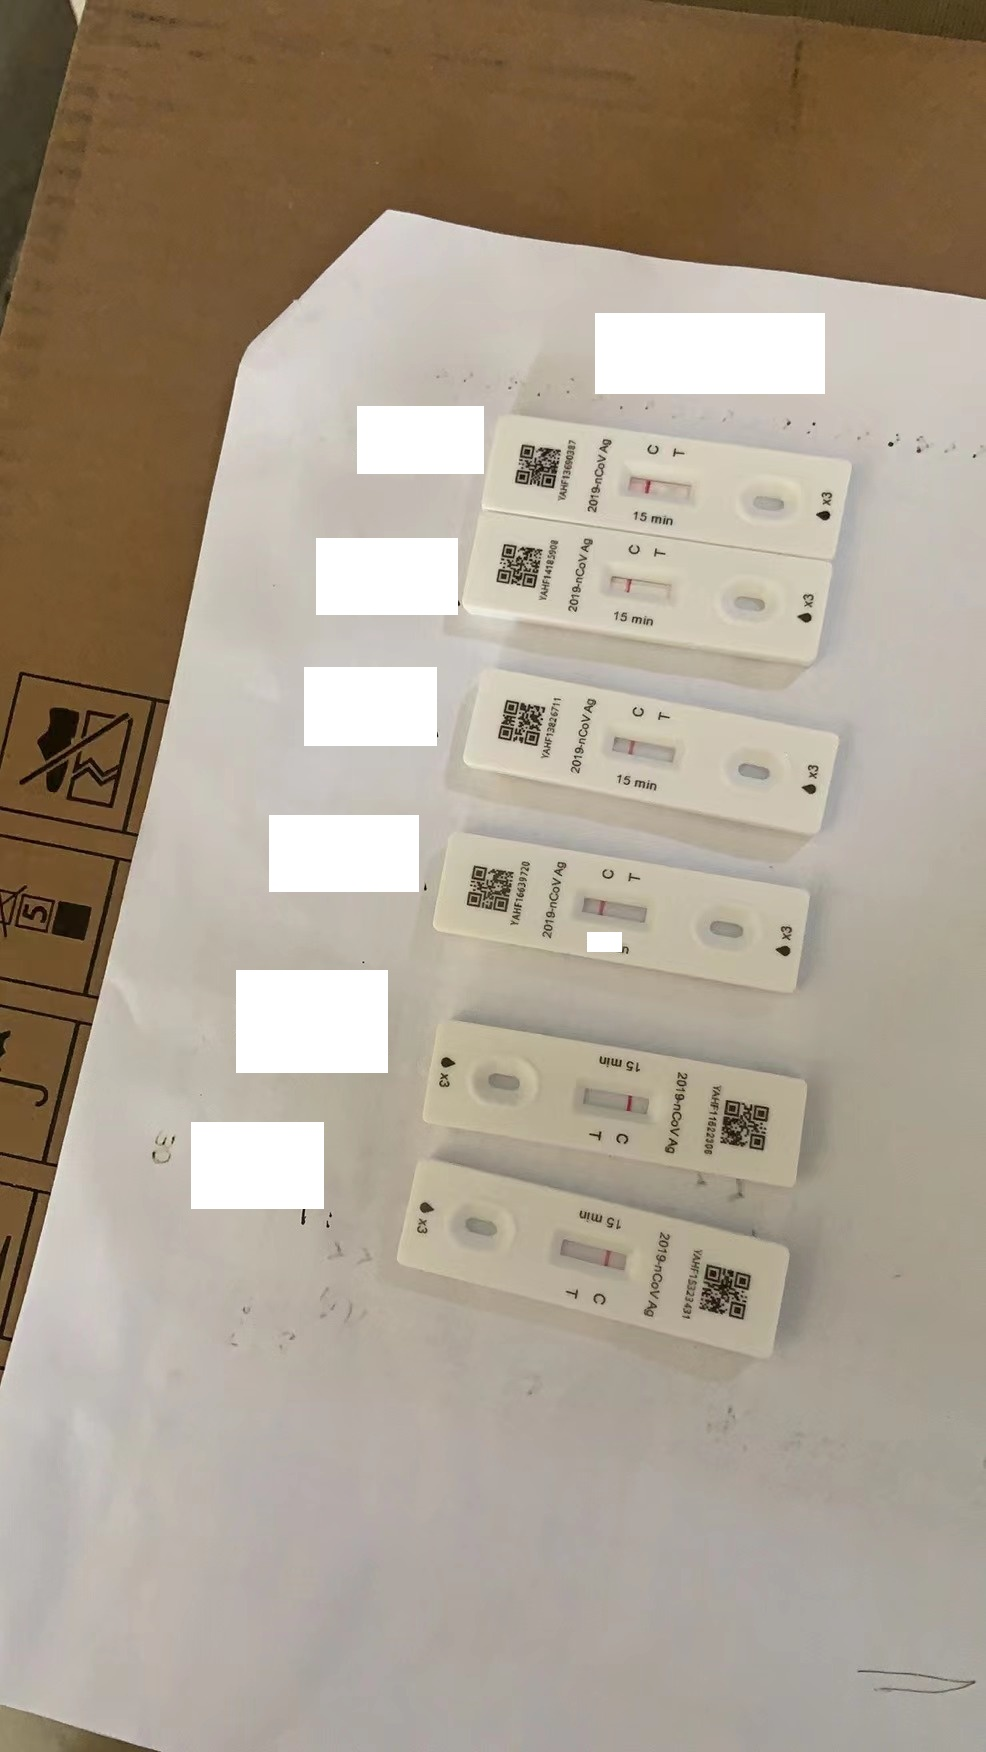negative: (547, 1225, 634, 1274), (569, 1079, 656, 1120), (575, 887, 657, 927), (597, 729, 678, 764), (606, 568, 673, 600), (627, 470, 695, 502)
